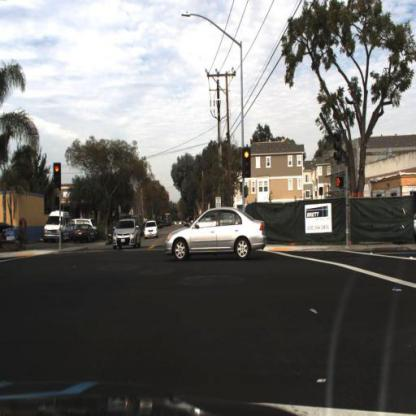car: (168, 208, 269, 265), (113, 219, 143, 254), (44, 212, 74, 245), (74, 223, 99, 246), (142, 220, 161, 243)
pedestrian: (16, 221, 27, 250)
trafficLight: (244, 147, 254, 177)
trafficLight-Red: (54, 161, 63, 188), (335, 175, 346, 192)
